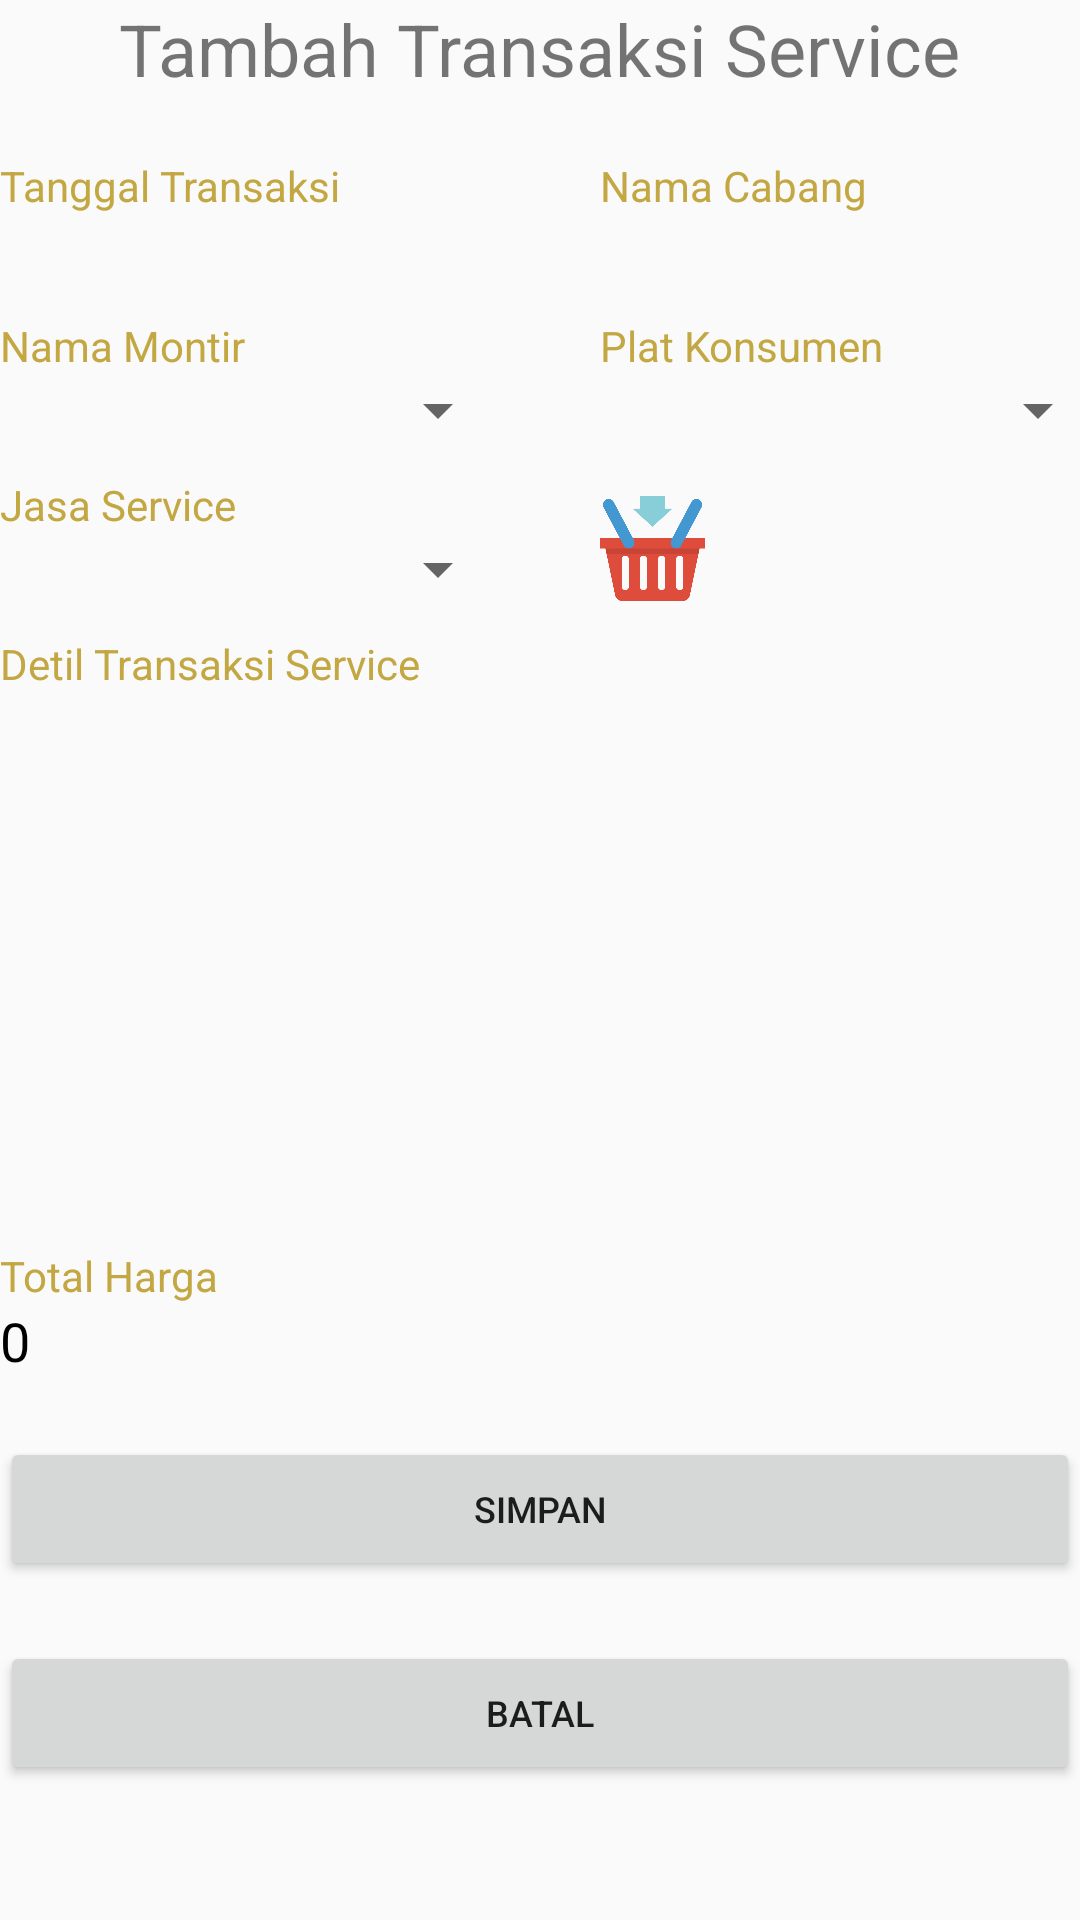

Where to tap for icons on this 1080×1920 app screen, as (x,y):
add transaksi: (652,548)
